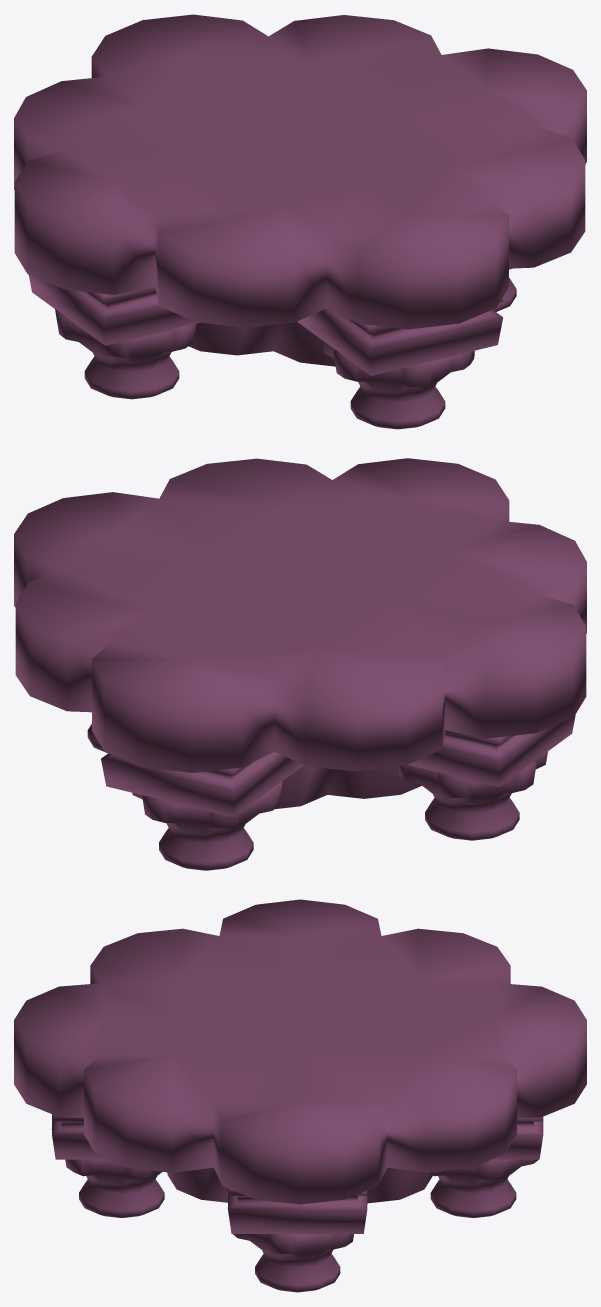
Rendered from Pillar_02_Up_Lod0.fbx.
3 views of the same model, one above another, from view 1: azimuth 30°, elevation 25°; view 2: azimuth 150°, elevation 25°; view 3: azimuth 270°, elevation 25° (orthographic). The views are drawn at different scales.
Visible parts, largest first — view 1: Pillar_02_Up_Lod0; view 2: Pillar_02_Up_Lod0; view 3: Pillar_02_Up_Lod0.
Part boxes in pixels (box(x1,y1,x2,y2)): Pillar_02_Up_Lod0: box(14, 14, 586, 429); Pillar_02_Up_Lod0: box(14, 458, 586, 870); Pillar_02_Up_Lod0: box(14, 899, 586, 1292).
Bounding box in the file's own units: 199 × 71.48 × 200.
